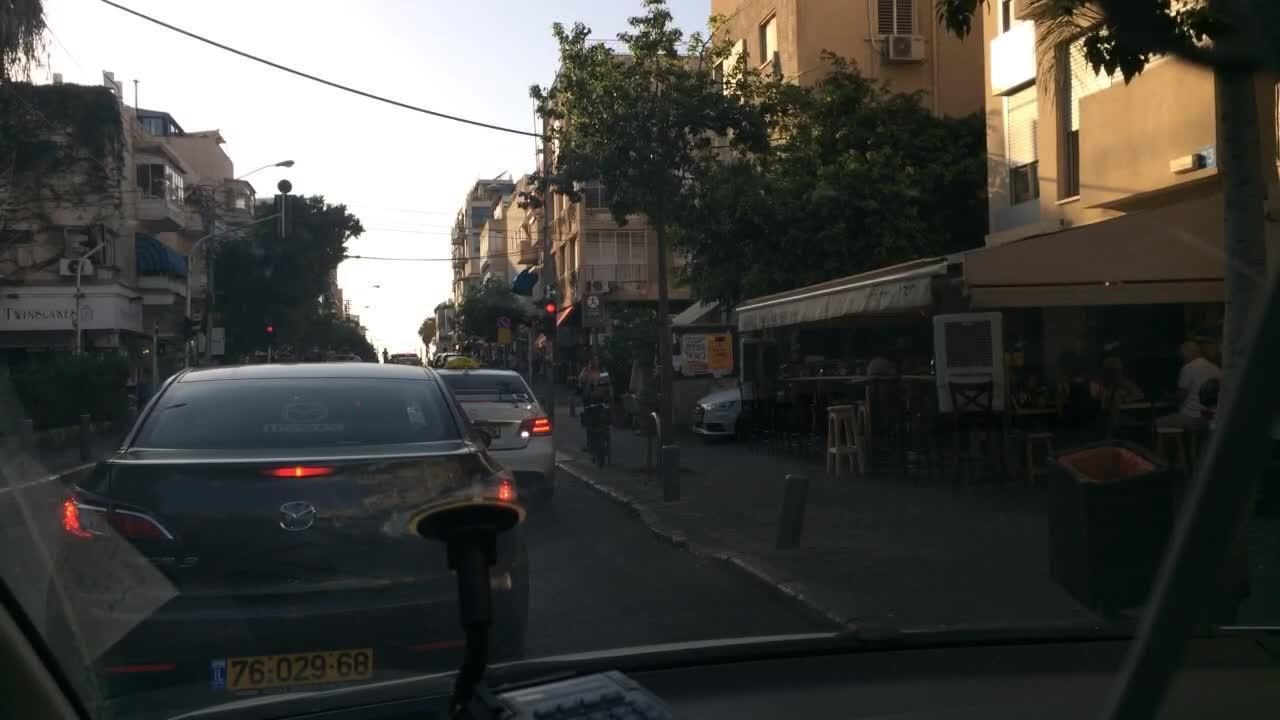Mazda: (273, 492, 320, 539)
